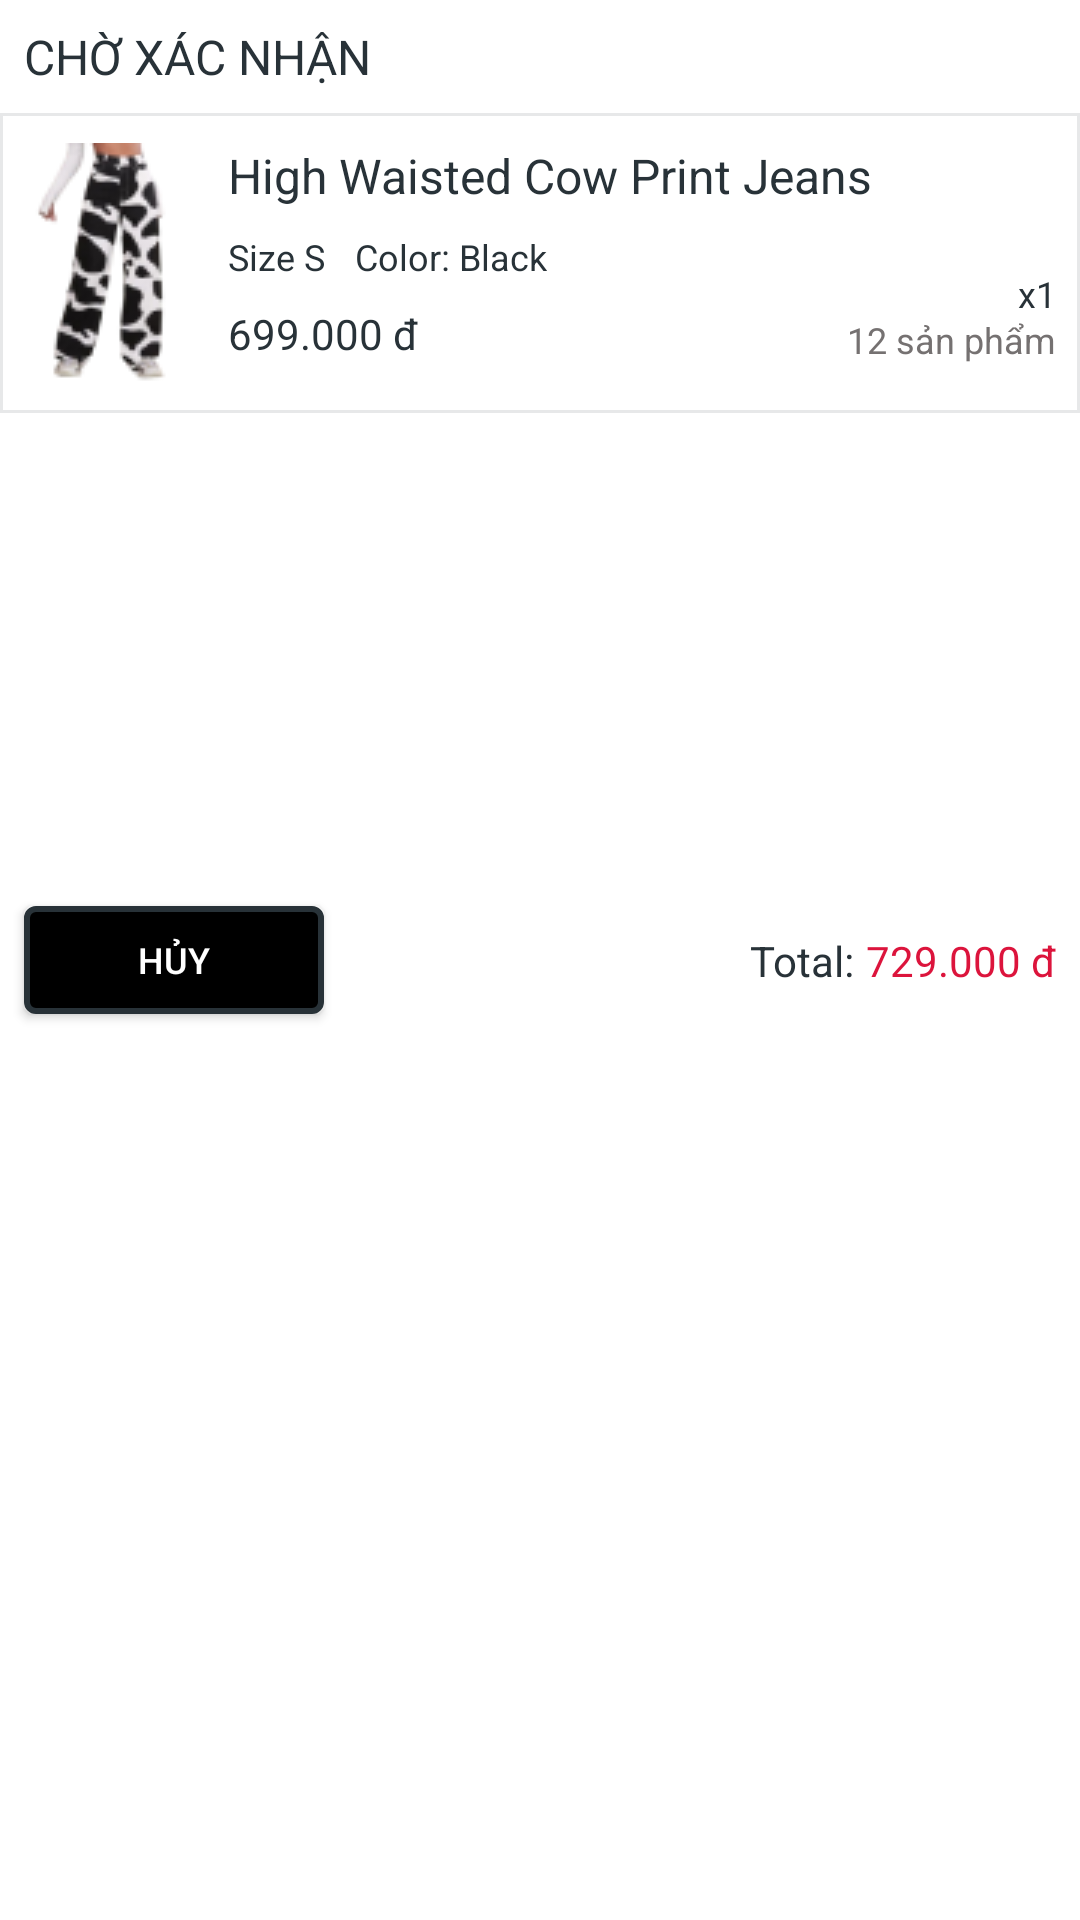

Screen size 1080w x 1920h. Icon name, then its center in pixels as (x=x, y=y):
prod jean trans: (x=100, y=261)
